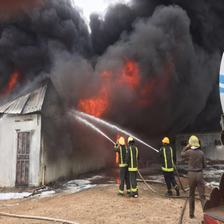fire: (17, 27, 196, 124)
